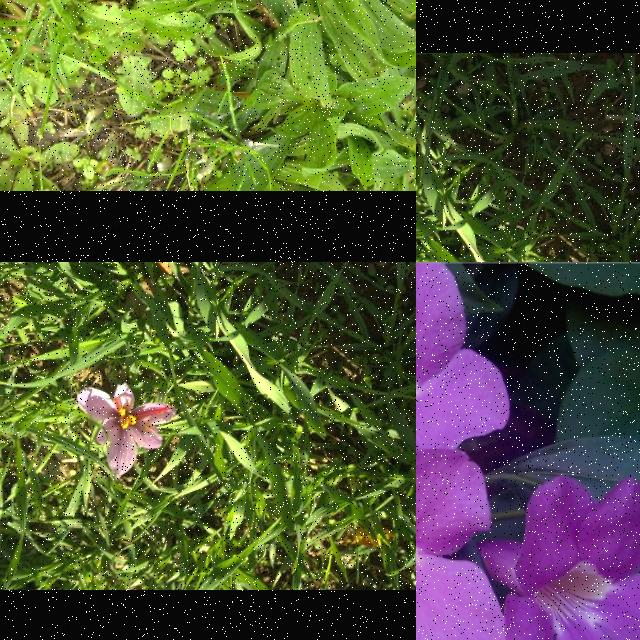flower: (78, 385, 178, 479)
